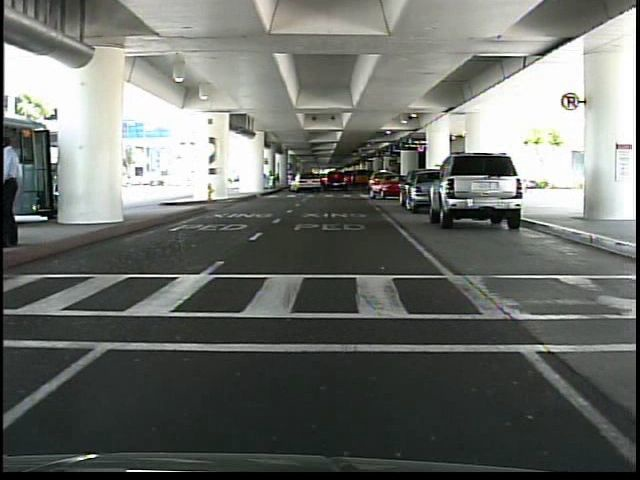person: (4, 140, 36, 254)
